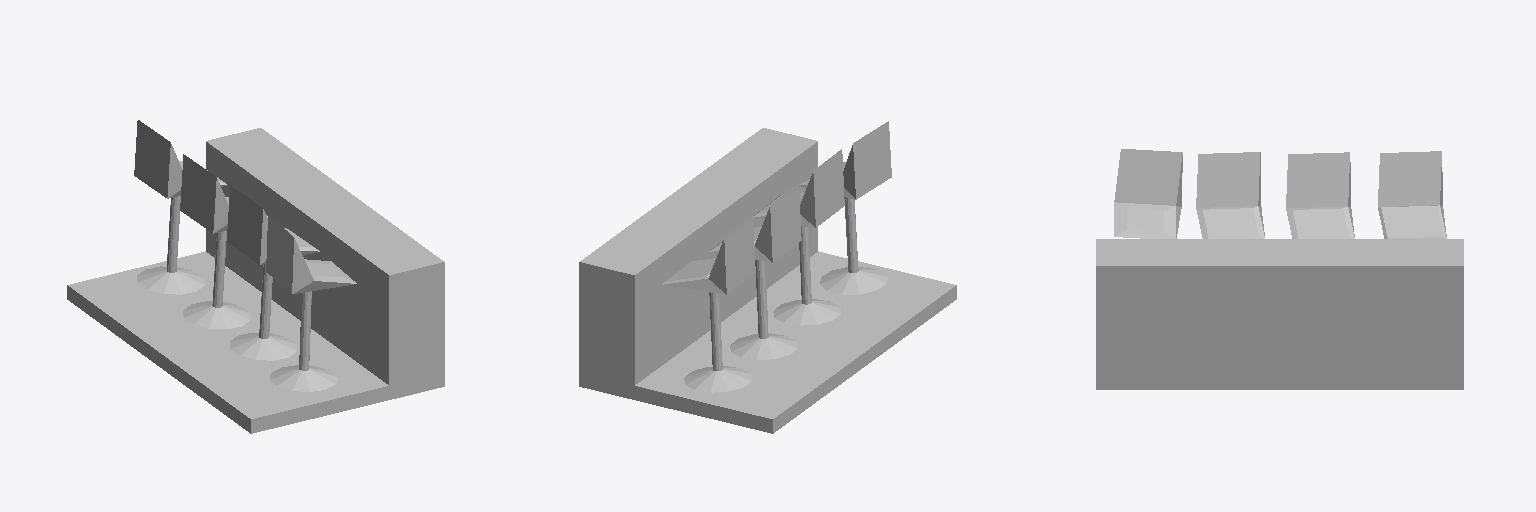
The model's file is breakfast_bar.obj.
The picture shows the model from 3 angles: view 1: azimuth 30°, elevation 25°; view 2: azimuth 150°, elevation 25°; view 3: azimuth 270°, elevation 25°; orthographic projection.
Visible parts, largest first — view 1: group[number redacted], group[number redacted], group[number redacted], group[number redacted], group[number redacted], group[number redacted]; view 2: group[number redacted], group[number redacted], group[number redacted], group[number redacted], group[number redacted], group[number redacted]; view 3: group[number redacted], group[number redacted], group[number redacted], group[number redacted], group[number redacted], group[number redacted].
Boxes of the visible parts, <box> form: group[number redacted]: <box>206,128,444,385</box>; group[number redacted]: <box>67,251,444,433</box>; group[number redacted]: <box>266,215,356,391</box>; group[number redacted]: <box>134,120,227,294</box>; group[number redacted]: <box>180,154,267,328</box>; group[number redacted]: <box>227,185,319,360</box>; group[number redacted]: <box>579,128,817,385</box>; group[number redacted]: <box>579,251,956,433</box>; group[number redacted]: <box>662,216,755,392</box>; group[number redacted]: <box>799,121,891,294</box>; group[number redacted]: <box>709,183,801,359</box>; group[number redacted]: <box>753,149,844,325</box>; group[number redacted]: <box>1096,239,1463,375</box>; group[number redacted]: <box>1114,149,1182,238</box>; group[number redacted]: <box>1378,151,1446,238</box>; group[number redacted]: <box>1196,152,1264,238</box>; group[number redacted]: <box>1286,152,1354,238</box>; group[number redacted]: <box>1096,376,1463,389</box>.
Size of the model in its own units: 1.12 by 0.9637 by 1.84.